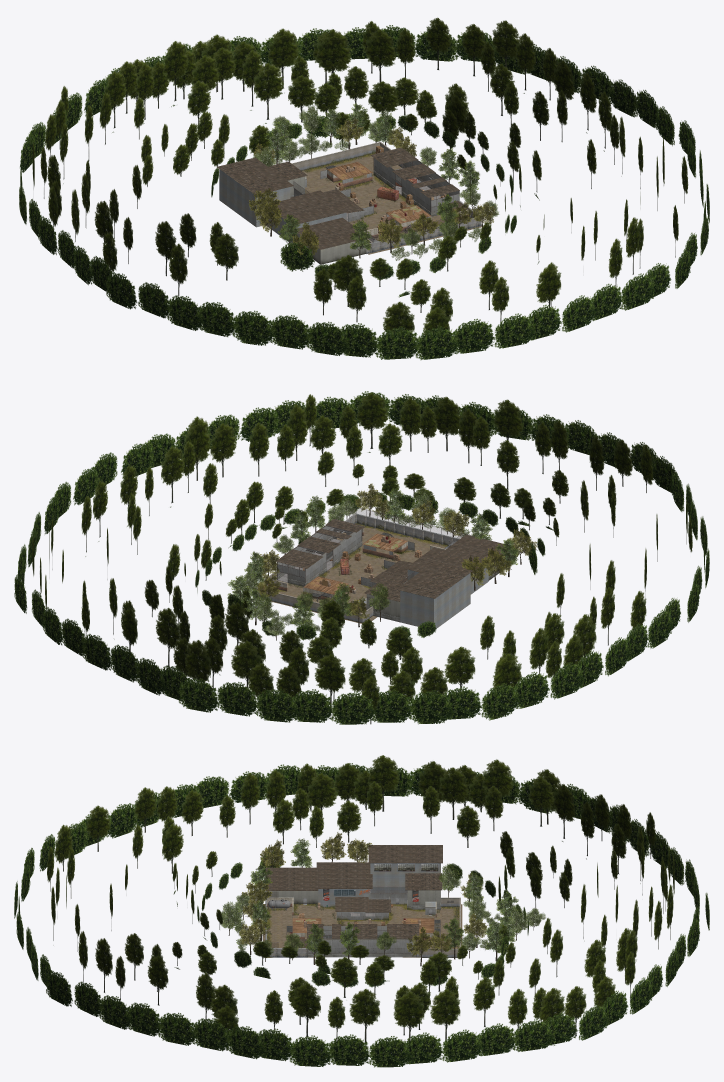
File: arena_standoff.glb
The picture shows the model from 3 angles, top to bottom: view 1: azimuth 30°, elevation 25°; view 2: azimuth 150°, elevation 25°; view 3: azimuth 270°, elevation 25°; orthographic projection. The views are drawn at different scales.
Parts seen in each view (by area): view 1: Object_36, Object_18, Object_33, Object_30, Object_15, Object_21, Object_24, Object_9, Object_27; view 2: Object_36, Object_18, Object_33, Object_30, Object_15, Object_21, Object_27, Object_9, Object_24; view 3: Object_36, Object_18, Object_33, Object_30, Object_21, Object_15, Object_24, Object_9.
Boxes of the visible parts, x1=… form: Object_36: x1=19, y1=17, x2=709, y2=359; Object_18: x1=217, y1=147, x2=468, y2=249; Object_33: x1=291, y1=142, x2=481, y2=254; Object_30: x1=219, y1=169, x2=473, y2=244; Object_15: x1=248, y1=115, x2=490, y2=258; Object_21: x1=327, y1=145, x2=446, y2=241; Object_24: x1=287, y1=176, x2=366, y2=264; Object_9: x1=304, y1=150, x2=481, y2=225; Object_27: x1=305, y1=170, x2=468, y2=243; Object_36: x1=14, y1=391, x2=709, y2=724; Object_18: x1=276, y1=519, x2=511, y2=622; Object_33: x1=253, y1=513, x2=459, y2=623; Object_30: x1=356, y1=513, x2=488, y2=628; Object_15: x1=235, y1=493, x2=537, y2=640; Object_21: x1=262, y1=532, x2=456, y2=594; Object_27: x1=268, y1=528, x2=445, y2=610; Object_9: x1=278, y1=522, x2=447, y2=591; Object_24: x1=366, y1=552, x2=514, y2=617; Object_36: x1=14, y1=755, x2=709, y2=1067; Object_18: x1=265, y1=845, x2=442, y2=957; Object_33: x1=263, y1=897, x2=462, y2=957; Object_30: x1=265, y1=863, x2=440, y2=941; Object_21: x1=268, y1=864, x2=456, y2=948; Object_15: x1=226, y1=844, x2=535, y2=966; Object_24: x1=266, y1=890, x2=440, y2=905; Object_9: x1=267, y1=904, x2=459, y2=957.
Size of the model in its own units: 2.17 by 0.2423 by 2.33.
10 materials, 10 textured.
